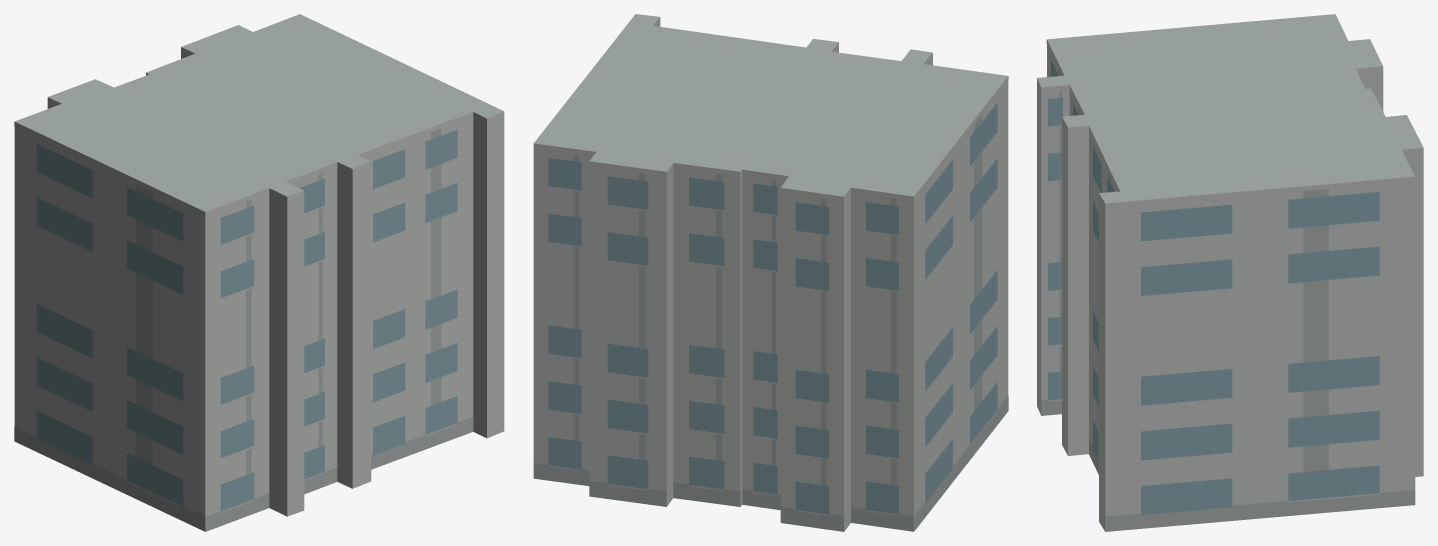
The model's file is survey-upis-32991437.glb.
3 renders of one model, left to right at view 1: azimuth 30°, elevation 25°; view 2: azimuth 150°, elevation 25°; view 3: azimuth 270°, elevation 25°, orthographic. The views are drawn at different scales.
Visible parts, largest first — view 1: survey-upis-32991437.tmp; view 2: survey-upis-32991437.tmp; view 3: survey-upis-32991437.tmp.
Boxes of the visible parts, left/top/right/bottom form: survey-upis-32991437.tmp: left=14, top=14, right=504, bottom=531; survey-upis-32991437.tmp: left=533, top=14, right=1008, bottom=531; survey-upis-32991437.tmp: left=1037, top=14, right=1423, bottom=531.
Bounding box in the file's own units: 20.47 × 16.55 × 17.67.
